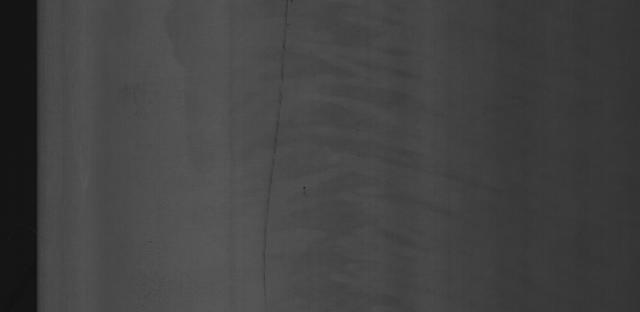inclusion: (253, 7, 292, 303)
water_spot: (306, 19, 430, 300)
